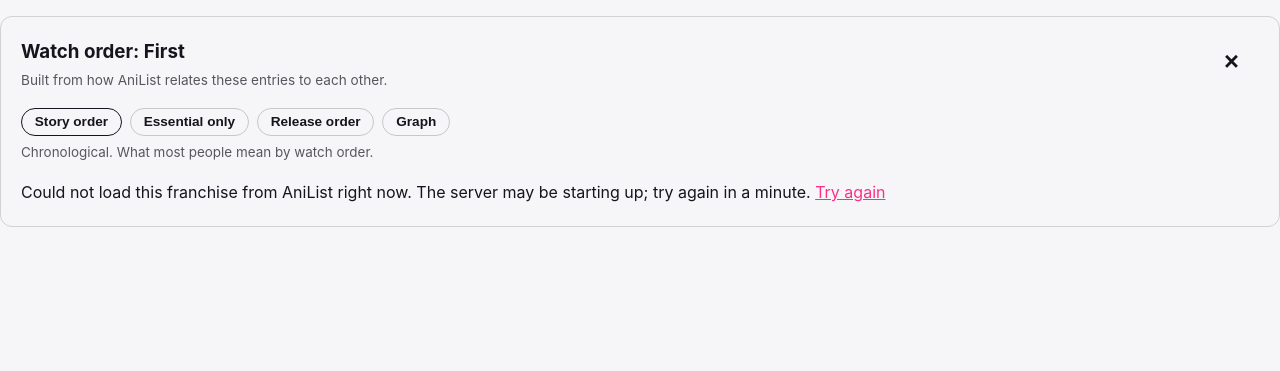
Test: WatchOrder › reports a franchise that did not load at all, and recovers on Try again
Check: the message shows "Could not load this franchise", box [21,182,811,202]
Check: the text "happen to agree" is not shown
Click the button "Try again" at (850, 193), box [815,180,886,206]
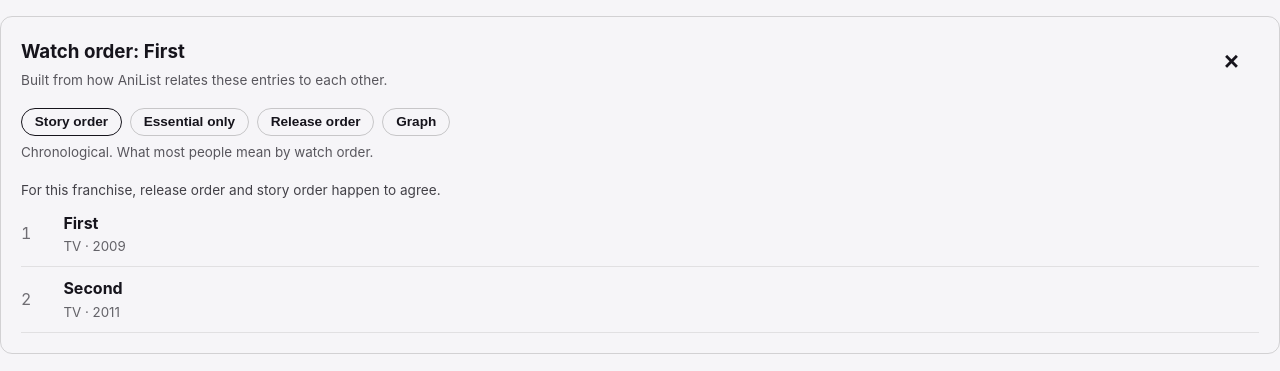
Check: the text "Second" is shown, box [63,276,123,302]
Check: the message is gone
